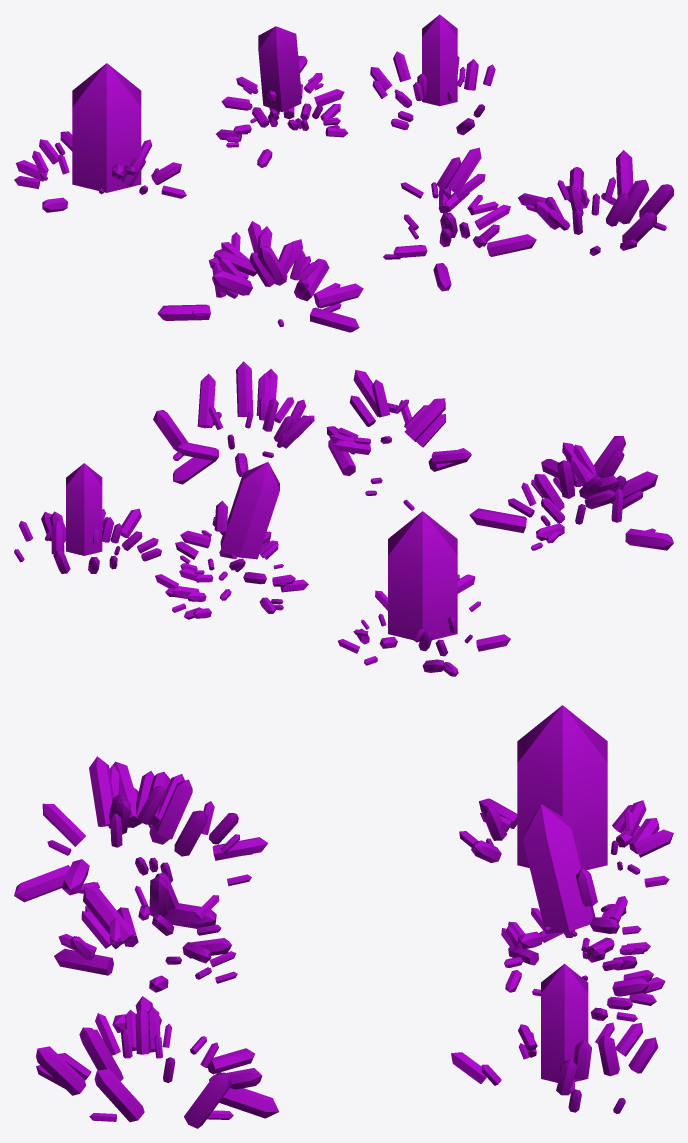
The model's file is sharpcrystal.fbx.
The picture shows the model from 3 angles, top to bottom: view 1: azimuth 30°, elevation 25°; view 2: azimuth 150°, elevation 25°; view 3: azimuth 270°, elevation 25°; orthographic projection. The views are drawn at different scales.
Visible parts, largest first — view 1: Crystals_6, Crystals_1, Crystals_5, Crystals_3, Crystals_2, Crystals_4; view 2: Crystals_6, Crystals_1, Crystals_5, Crystals_3, Crystals_4, Crystals_2; view 3: Crystals_6, Crystals_1, Crystals_5, Crystals_3, Crystals_4, Crystals_2.
Part boxes in pixels (<box>): Crystals_6: <box>14,63,186,212</box>; Crystals_1: <box>157,221,363,332</box>; Crystals_5: <box>216,26,348,167</box>; Crystals_3: <box>518,150,673,255</box>; Crystals_2: <box>383,147,536,291</box>; Crystals_4: <box>370,14,495,135</box>; Crystals_6: <box>338,511,510,676</box>; Crystals_1: <box>469,435,673,550</box>; Crystals_5: <box>155,462,308,619</box>; Crystals_3: <box>153,361,314,484</box>; Crystals_4: <box>14,463,161,573</box>; Crystals_2: <box>326,369,471,510</box>; Crystals_6: <box>459,705,673,942</box>; Crystals_1: <box>14,756,268,928</box>; Crystals_5: <box>501,804,665,1021</box>; Crystals_3: <box>36,996,279,1128</box>; Crystals_4: <box>451,963,658,1113</box>; Crystals_2: <box>54,872,237,1032</box>.
Size of the model in its own units: 738 by 215 by 649.
